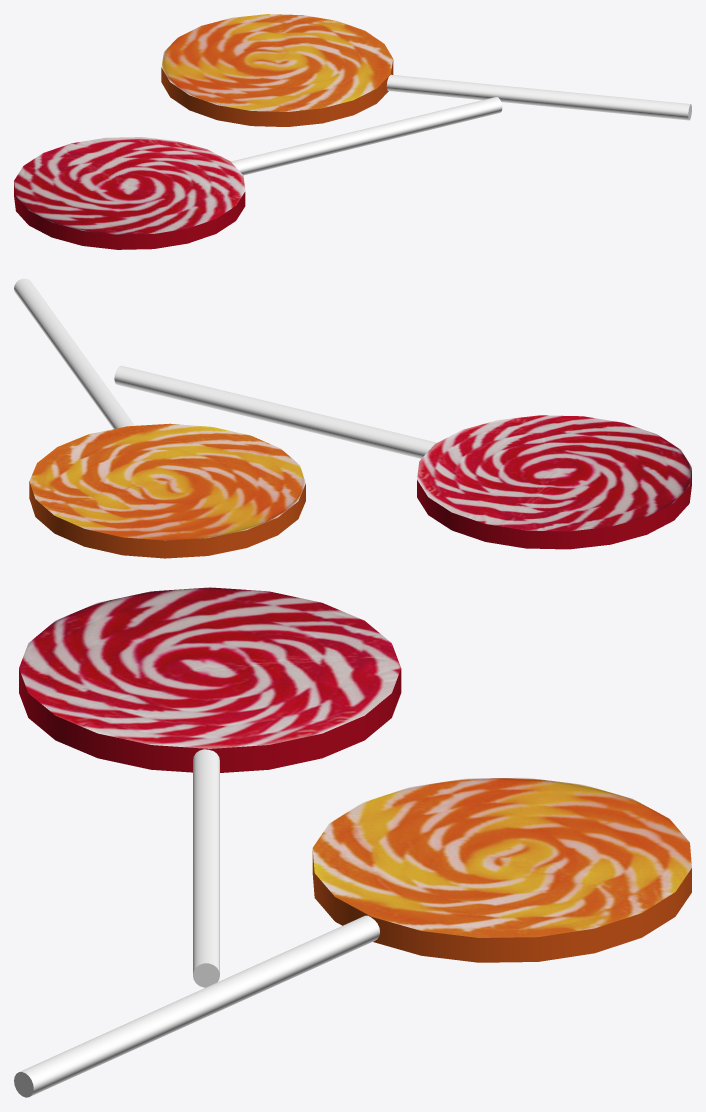
File: Lollipops.FBX
3 views of the same model, one above another, from view 1: azimuth 30°, elevation 25°; view 2: azimuth 150°, elevation 25°; view 3: azimuth 270°, elevation 25° (orthographic). The views are drawn at different scales.
Visible parts, largest first — view 1: lollipop 2, lollipop; view 2: lollipop, lollipop 2; view 3: lollipop 2, lollipop.
Boxes of the visible parts, x1,y1,x2,y2 form: lollipop 2: (161, 14, 691, 126); lollipop: (14, 97, 502, 249); lollipop: (114, 365, 691, 549); lollipop 2: (14, 278, 305, 558); lollipop 2: (14, 777, 691, 1097); lollipop: (19, 587, 401, 987).
Bounding box in the file's own units: 27.52 × 0.6563 × 16.14.
1 material, 1 textured.
